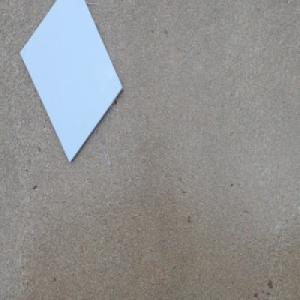PaintChip: (18, 0, 124, 165)
